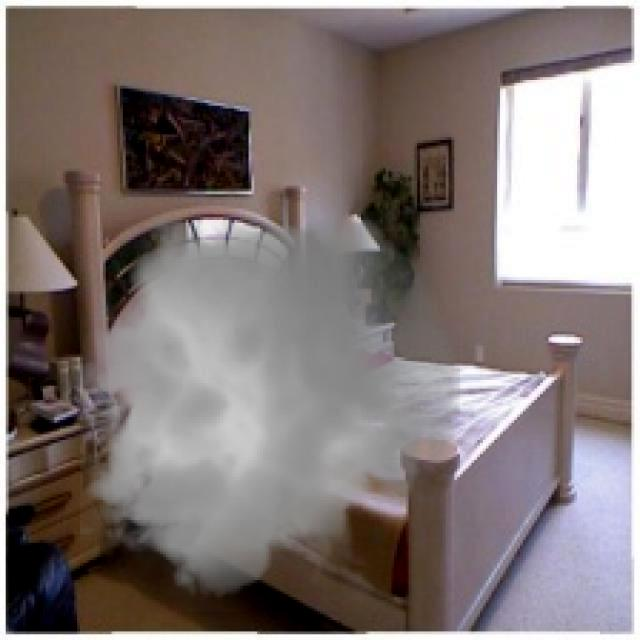no_helmet: (63, 197, 474, 612)
